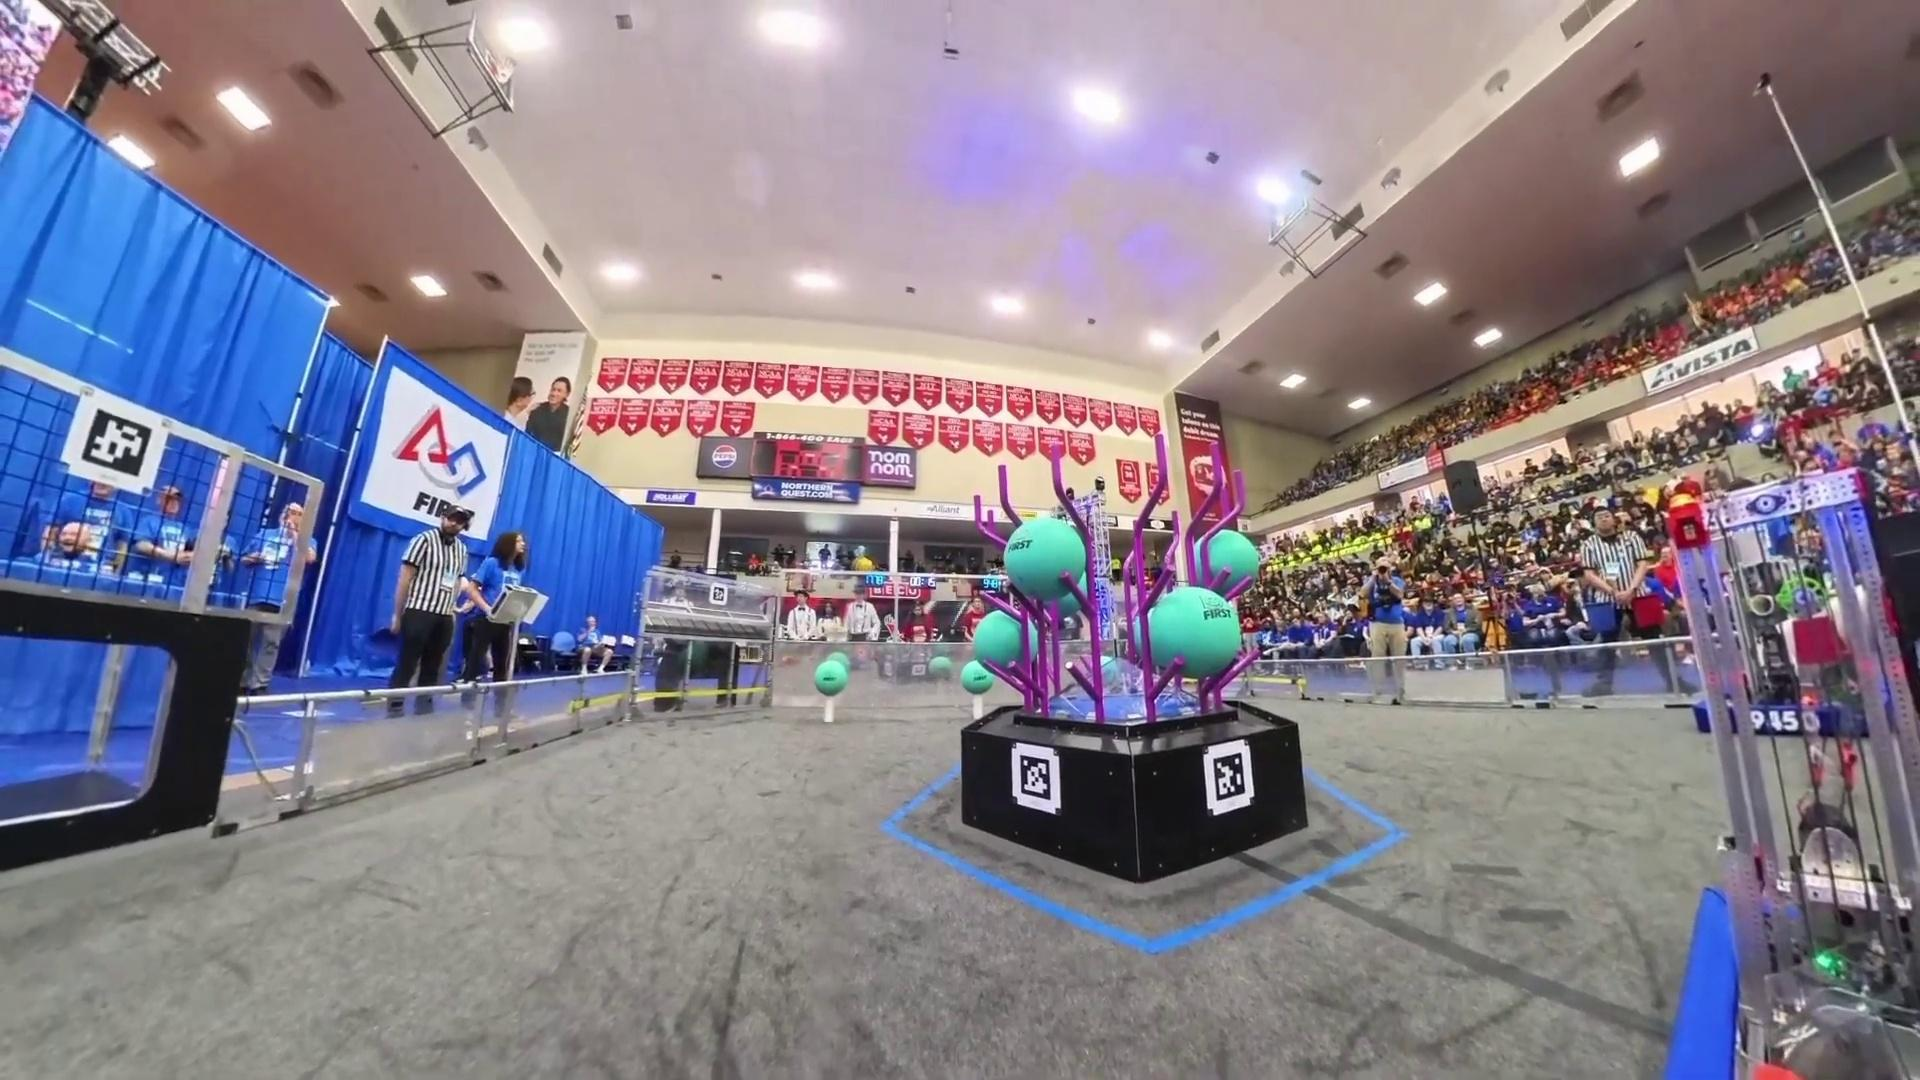robot: (1656, 465, 1920, 1080), (1692, 529, 1894, 737)
